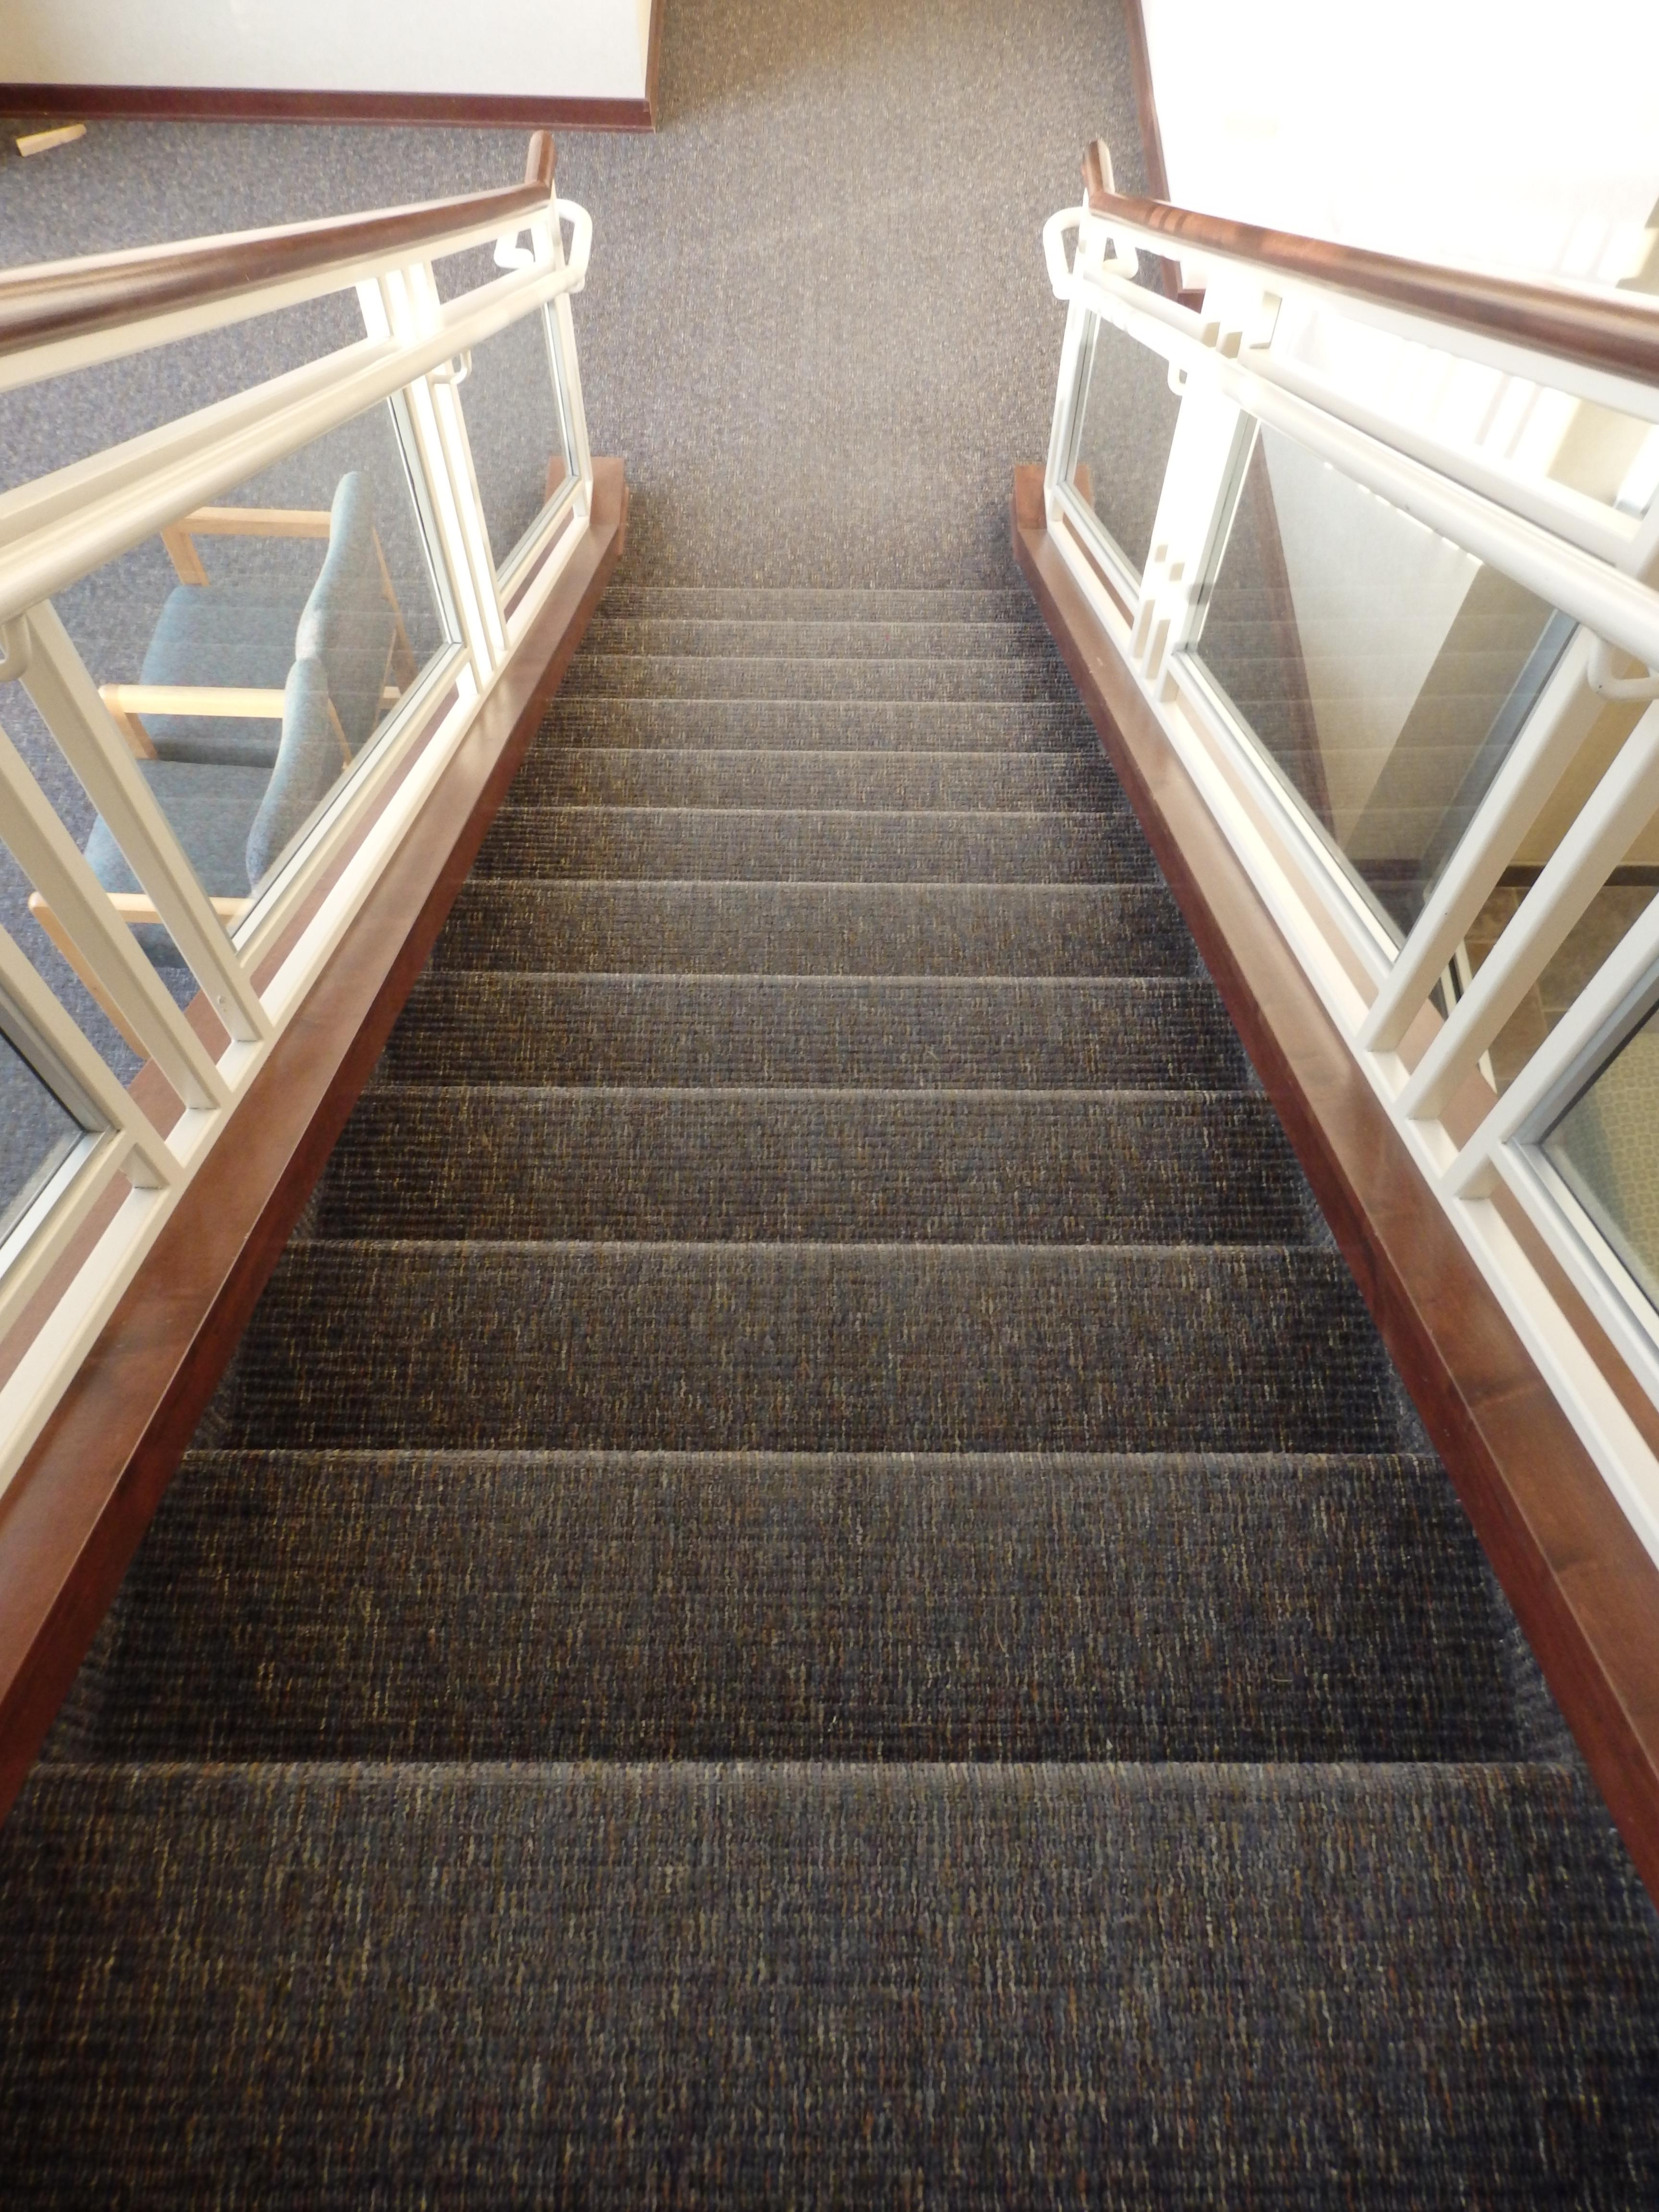stairs_down: (153, 566, 1485, 1885)
